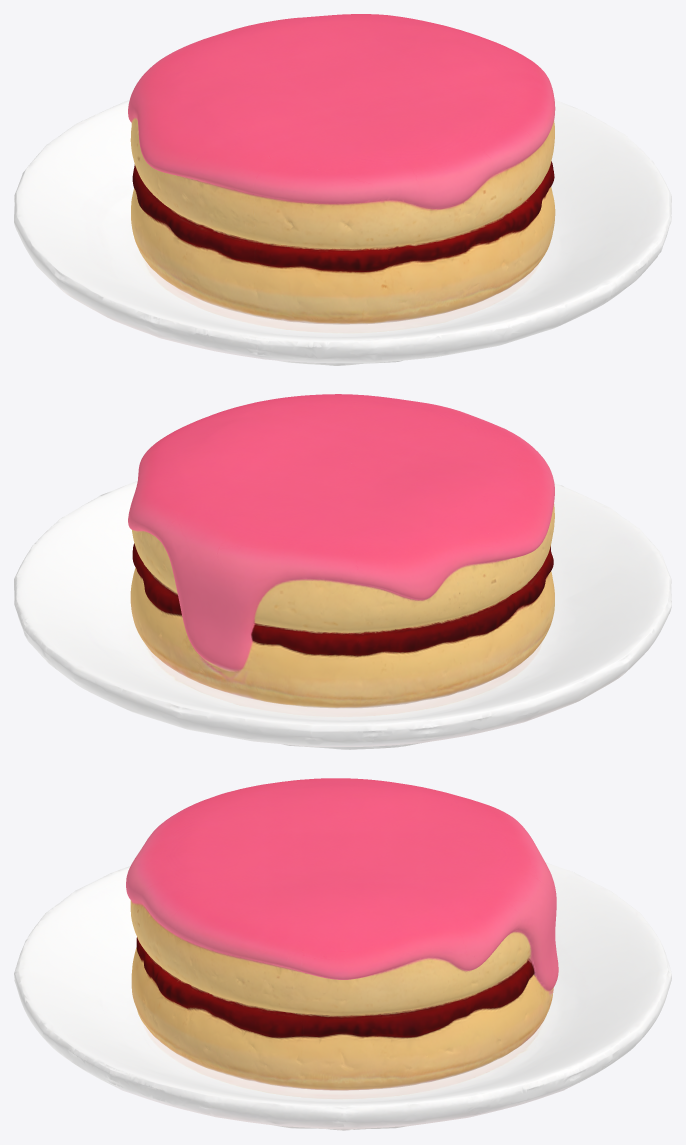
Rendered from Napolitaine.glb.
The picture shows the model from 3 angles, top to bottom: view 1: azimuth 30°, elevation 25°; view 2: azimuth 150°, elevation 25°; view 3: azimuth 270°, elevation 25°; orthographic projection.
Visible parts, largest first — view 1: Mesh_0; view 2: Mesh_0; view 3: Mesh_0.
Boxes of the visible parts, x1,y1,x2,y2 form: Mesh_0: (14,14,671,365); Mesh_0: (14,394,671,749); Mesh_0: (14,778,671,1130).
Size of the model in its own units: 0.12 by 0.04 by 0.12.
Materials: 1 (1 with a texture image).
